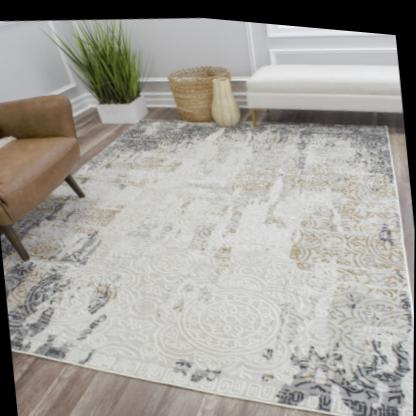Carpet: (0, 115, 414, 416)
